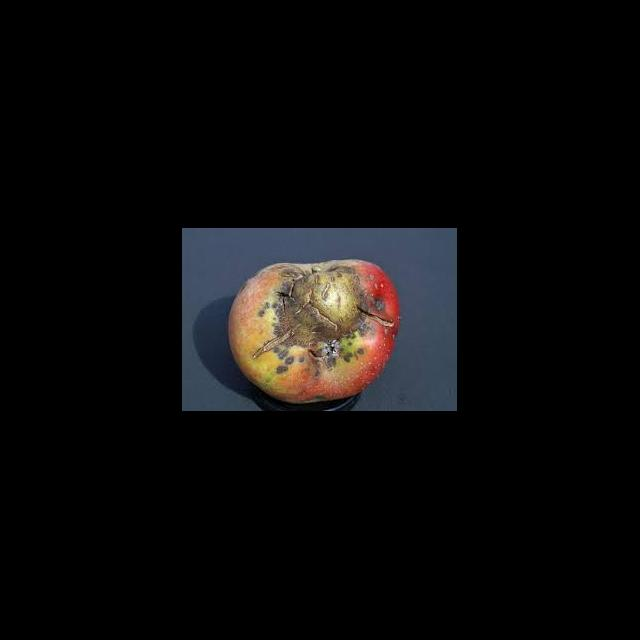food_waste: (221, 246, 415, 412)
